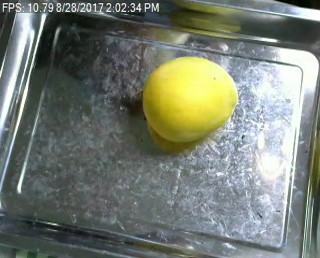Mango: (139, 56, 240, 141)
